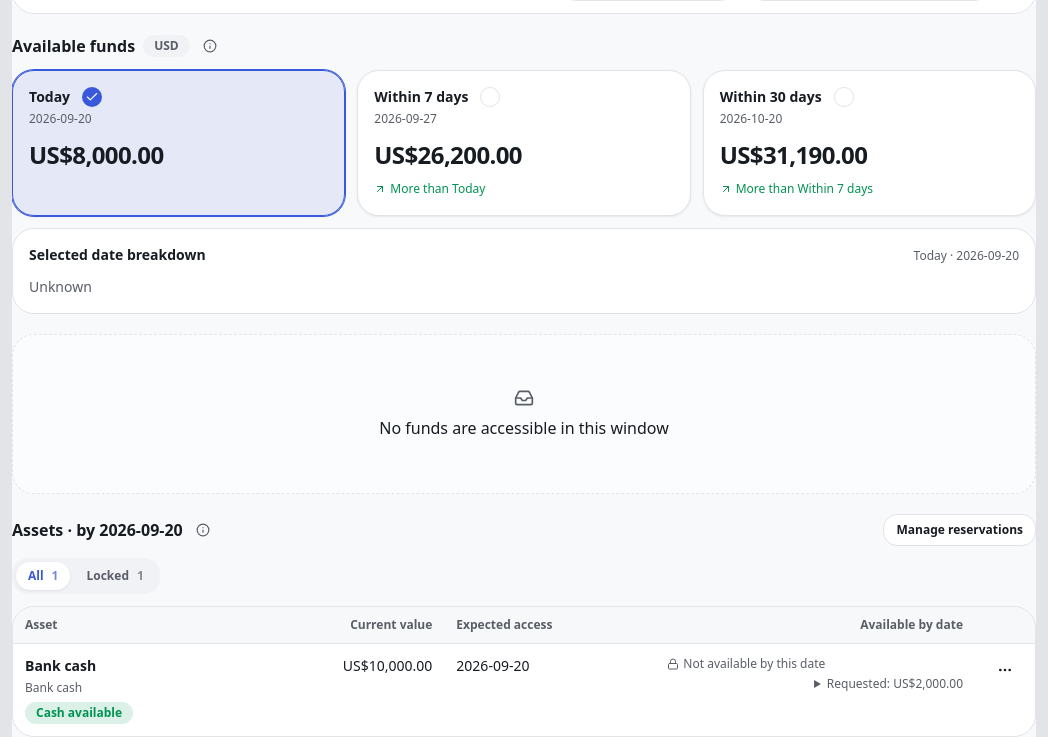
Test: explains reservations that do not apply by the selected horizon
(page scrolled)
Click the heading "Requested: US$2,000.00" at [895, 684], box [827, 675, 963, 692]
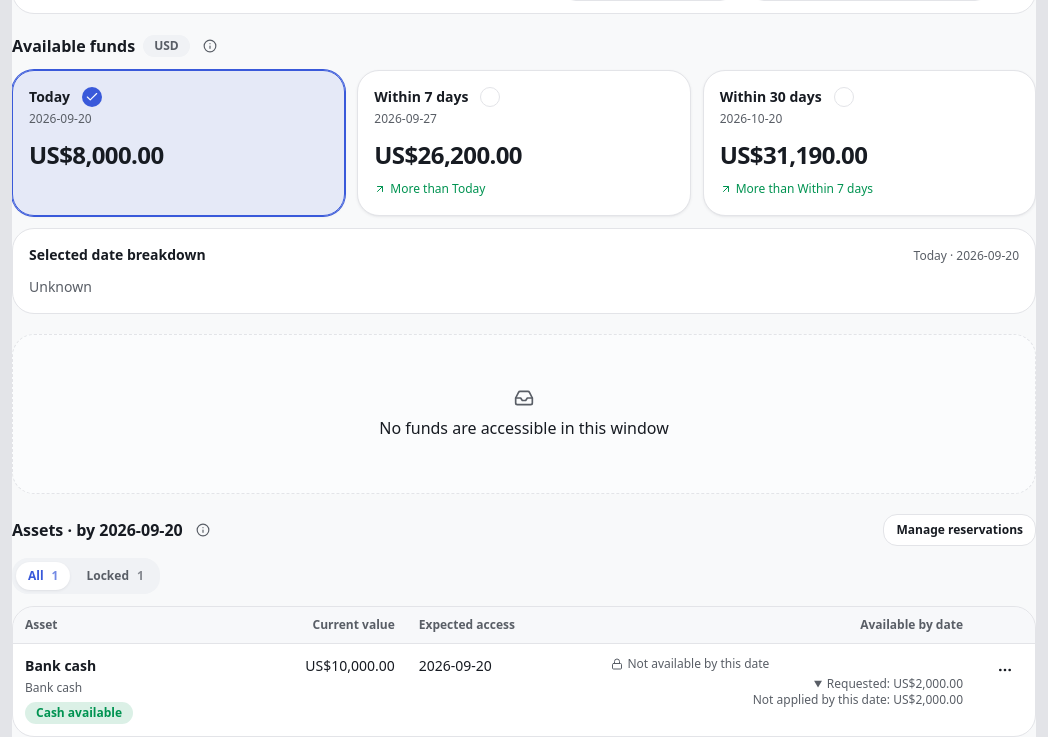
Expected: the text "Not applied by this date: US$2,000.00" is shown, [753, 691, 963, 708]
